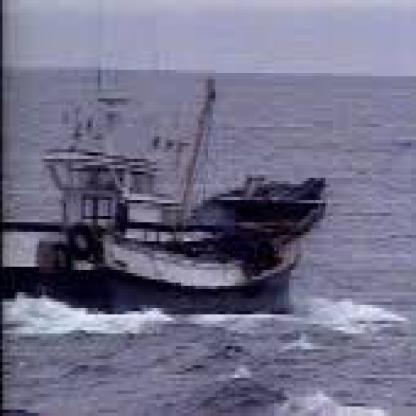Ship: (1, 74, 332, 329)
